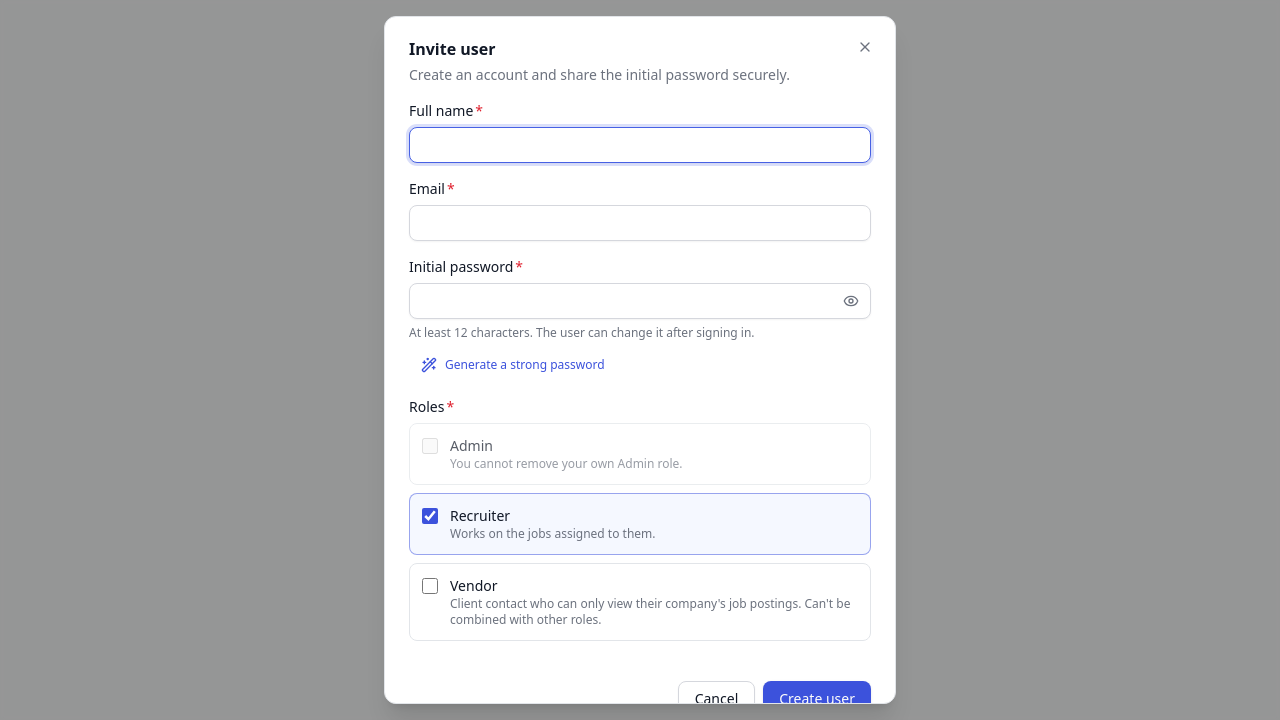
Test: UserFormDialog › validates required fields and password length before creating
In the field labelled "Email": (640, 223) 409,205 -> 871,241, type "not-an-email"
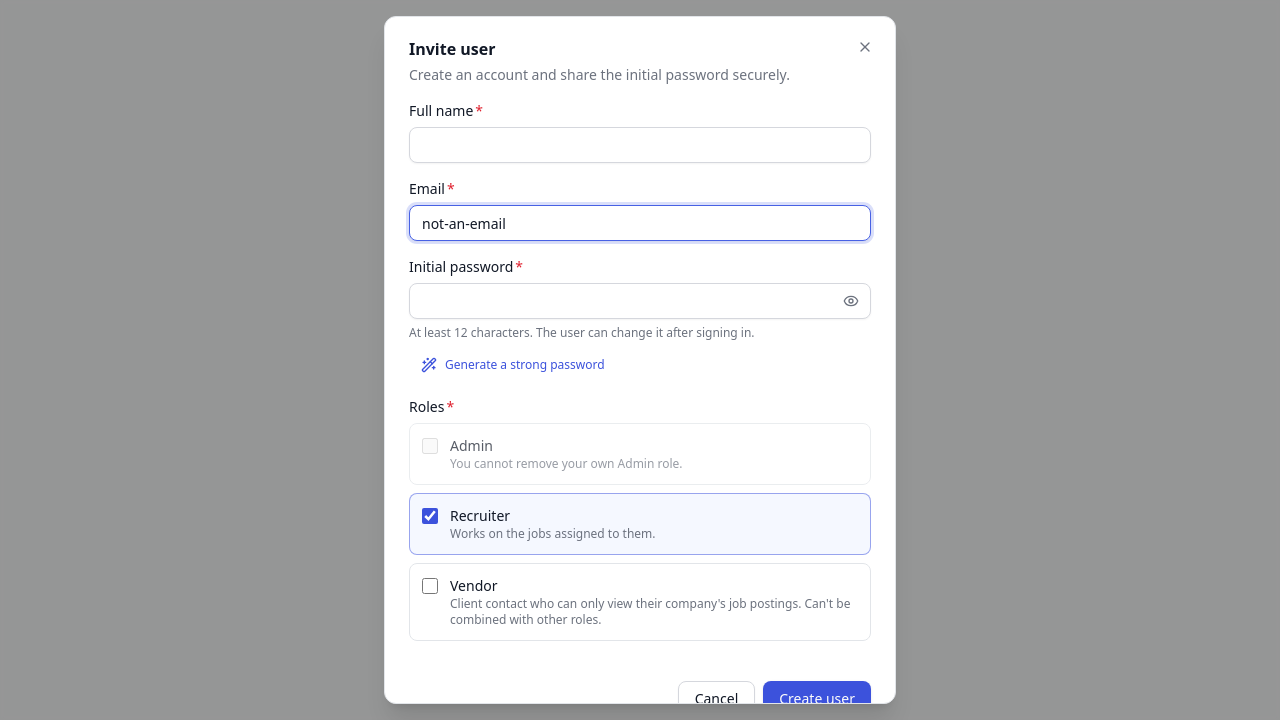
In the password field labelled "Initial password*": (640, 301) 409,283 -> 871,319, type "short"
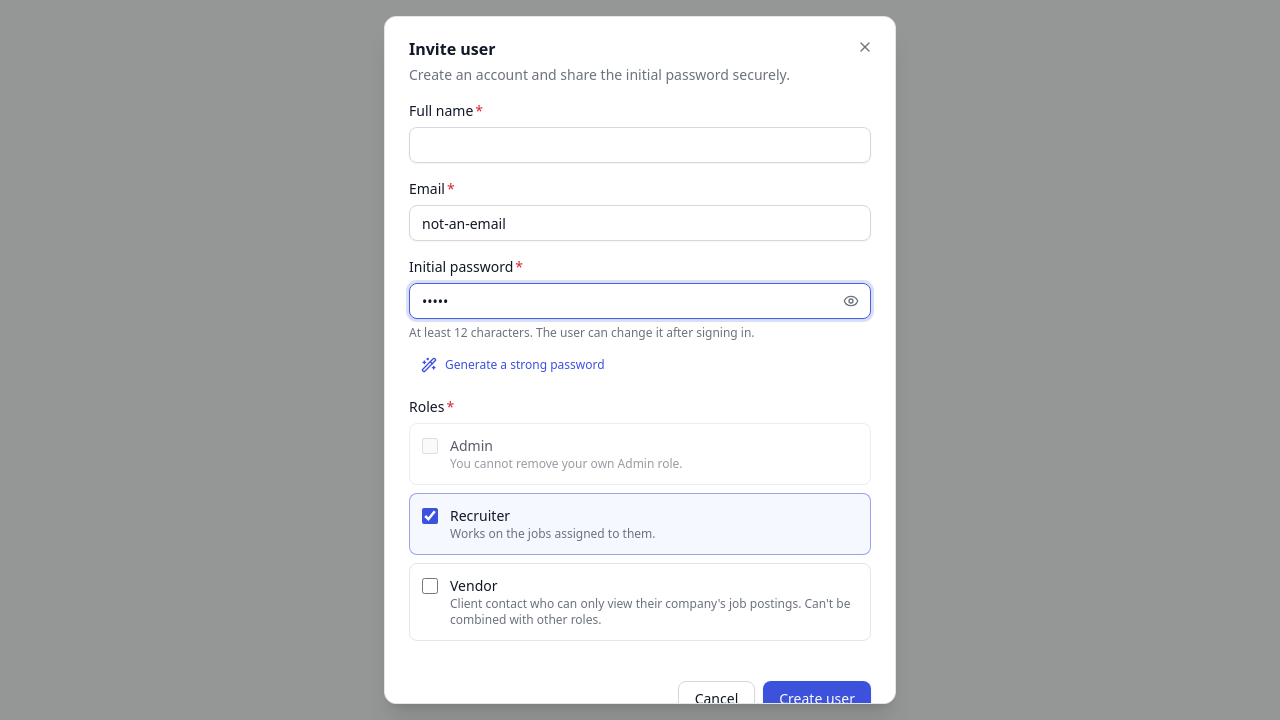
Click the button "Create user": click(817, 699) 763,681 -> 871,717
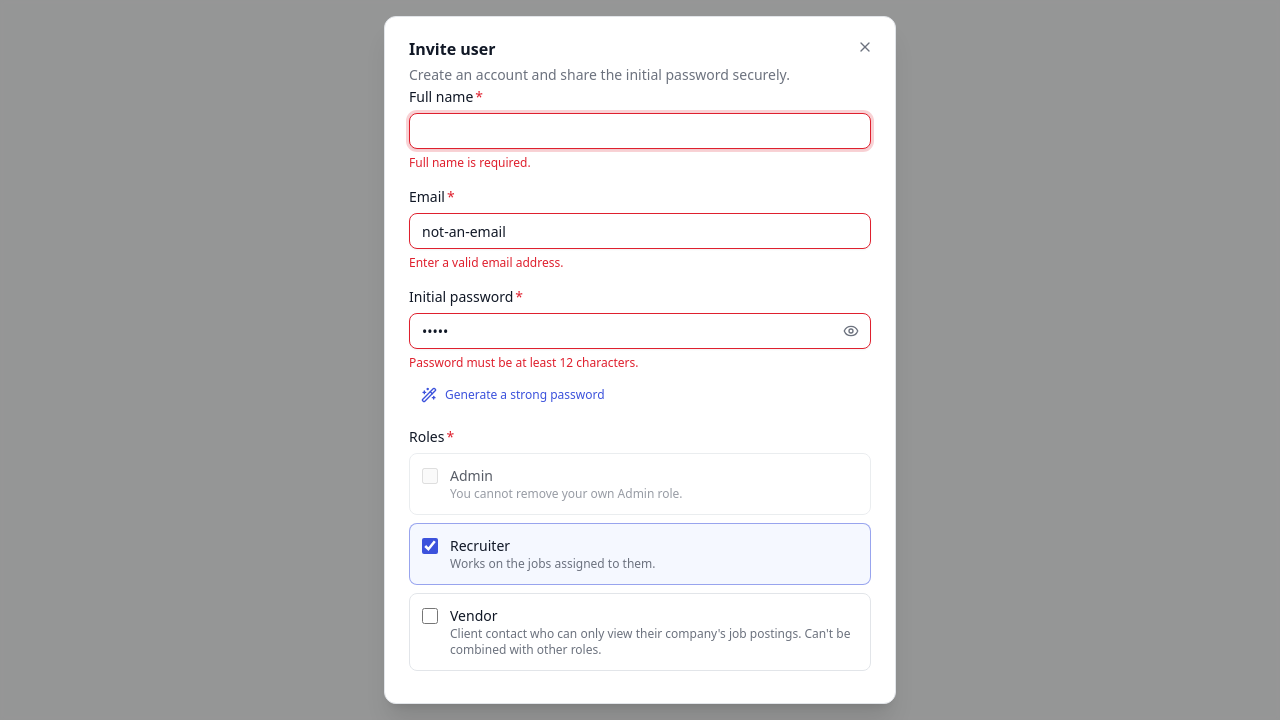
Expected: the text "Full name is required." is shown, 409,154 -> 531,171
Expected: the text "Enter a valid email address." is shown, 409,254 -> 563,271
Expected: the text "Password must be at least 12 characters." is shown, 409,354 -> 638,371
